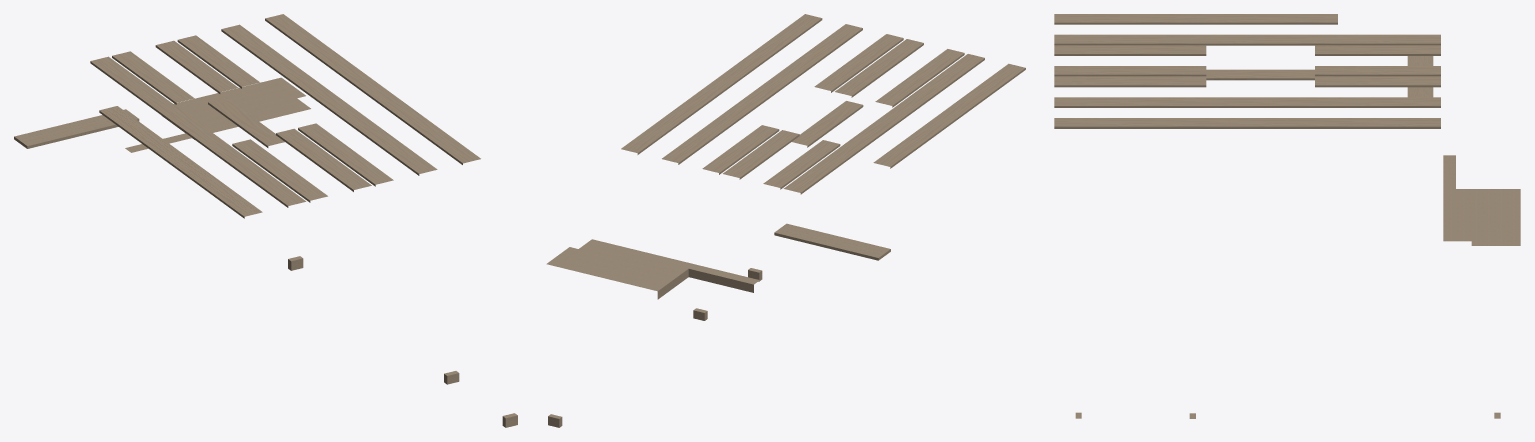
The model's file is kd_stage_135b75_4_15_bounded_portal.glb.
3 views of the same model, side by side, from view 1: azimuth 30°, elevation 25°; view 2: azimuth 150°, elevation 25°; view 3: azimuth 270°, elevation 25° (orthographic). The views are drawn at different scales.
Visible parts, largest first — view 1: kd_stage_135b75_4_15_bounded_portal; view 2: kd_stage_135b75_4_15_bounded_portal; view 3: kd_stage_135b75_4_15_bounded_portal.
Boxes of the visible parts, box(x1,y1,x2,y2) form: kd_stage_135b75_4_15_bounded_portal: box(14, 14, 517, 427); kd_stage_135b75_4_15_bounded_portal: box(546, 14, 1025, 427); kd_stage_135b75_4_15_bounded_portal: box(1054, 14, 1520, 418).
Bounding box in the file's own units: 3.48 × 2.97 × 4.5.
Materials: 1 (1 with a texture image).
